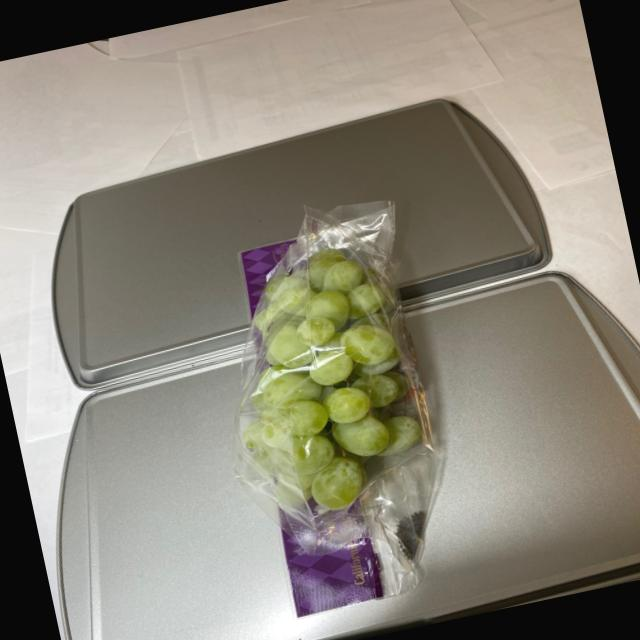grapes: (208, 226, 438, 528)
